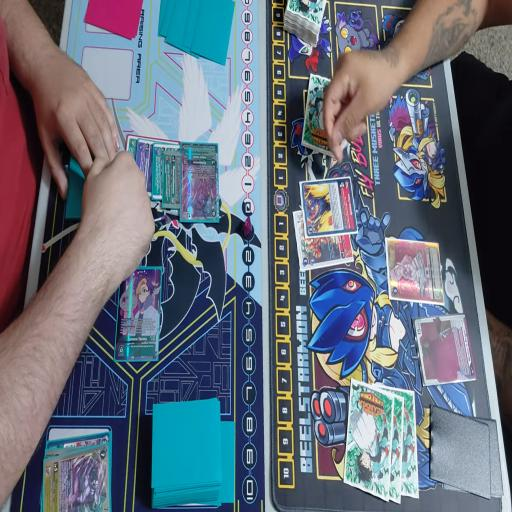card: (41, 440, 119, 512), (114, 264, 164, 363), (416, 311, 476, 387), (294, 210, 355, 273), (301, 176, 361, 240), (384, 243, 444, 299), (179, 141, 218, 221), (41, 431, 113, 458), (152, 144, 183, 200), (162, 150, 183, 212), (136, 139, 159, 191), (123, 132, 142, 180)
